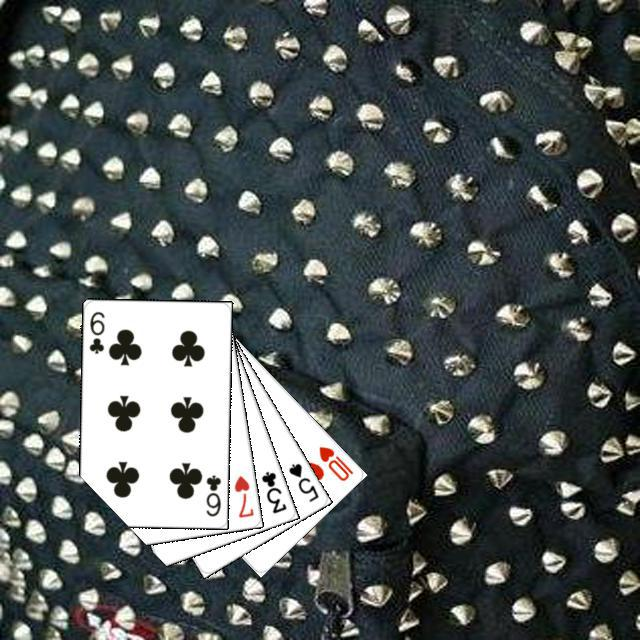10h: (314, 441, 355, 483)
3c: (256, 466, 288, 515)
5s: (284, 458, 320, 504)
6c: (201, 470, 223, 518), (85, 306, 106, 355)
7h: (229, 471, 255, 519)
